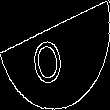O_N: (36, 24, 74, 86)
